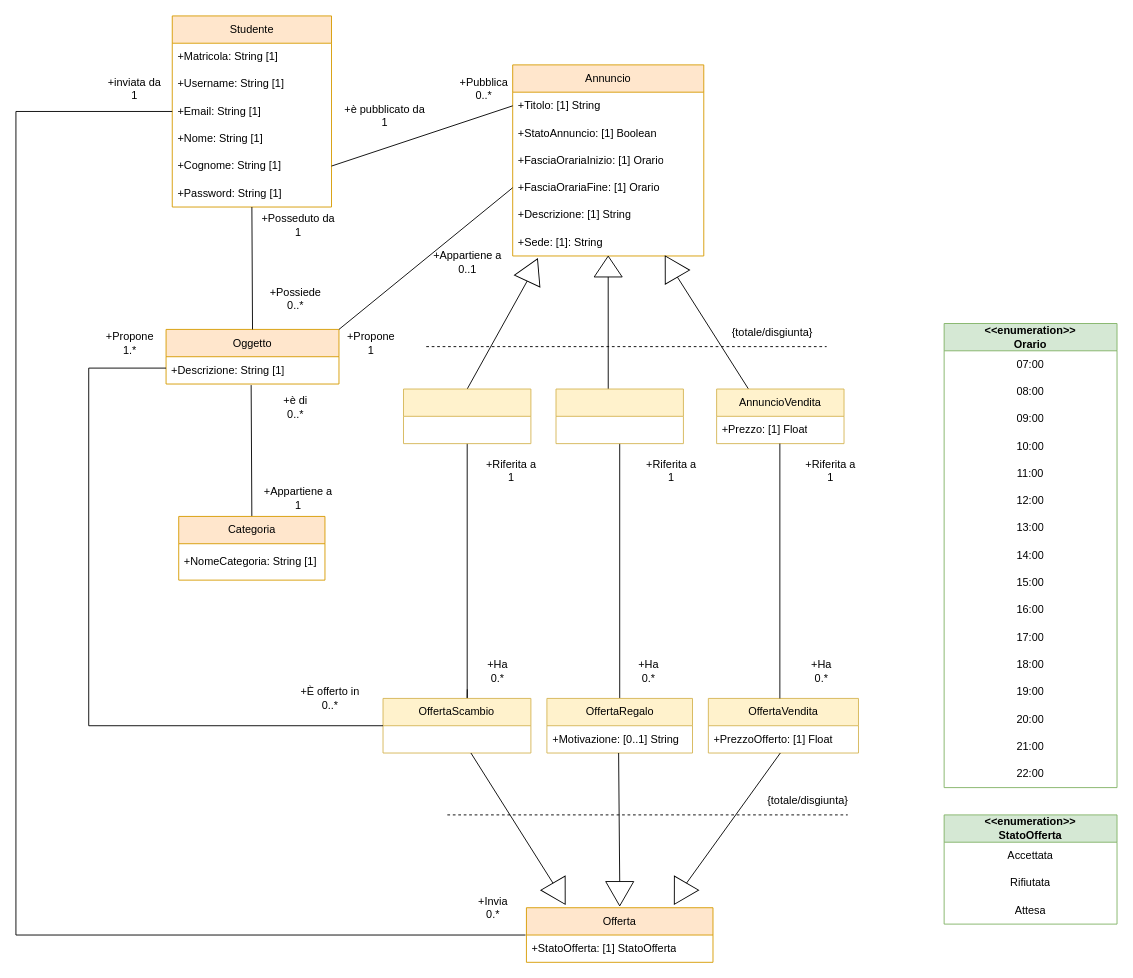
This 1133x978 diagram has some shape labels left out. Each missing label, with the centre of its shape:
"AnnuncioRegalo" belongs at pixel 619 416.
"AnnuncioScambio" belongs at pixel 467 416.
